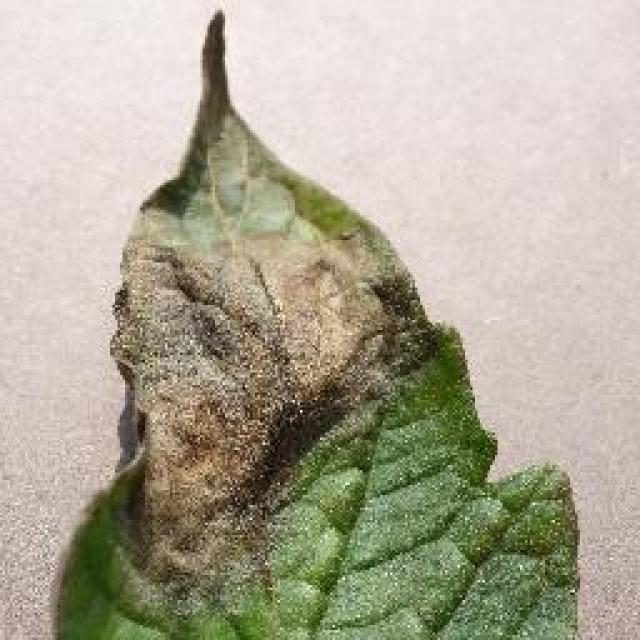Tomato Late Blight: (110, 117, 405, 563)
